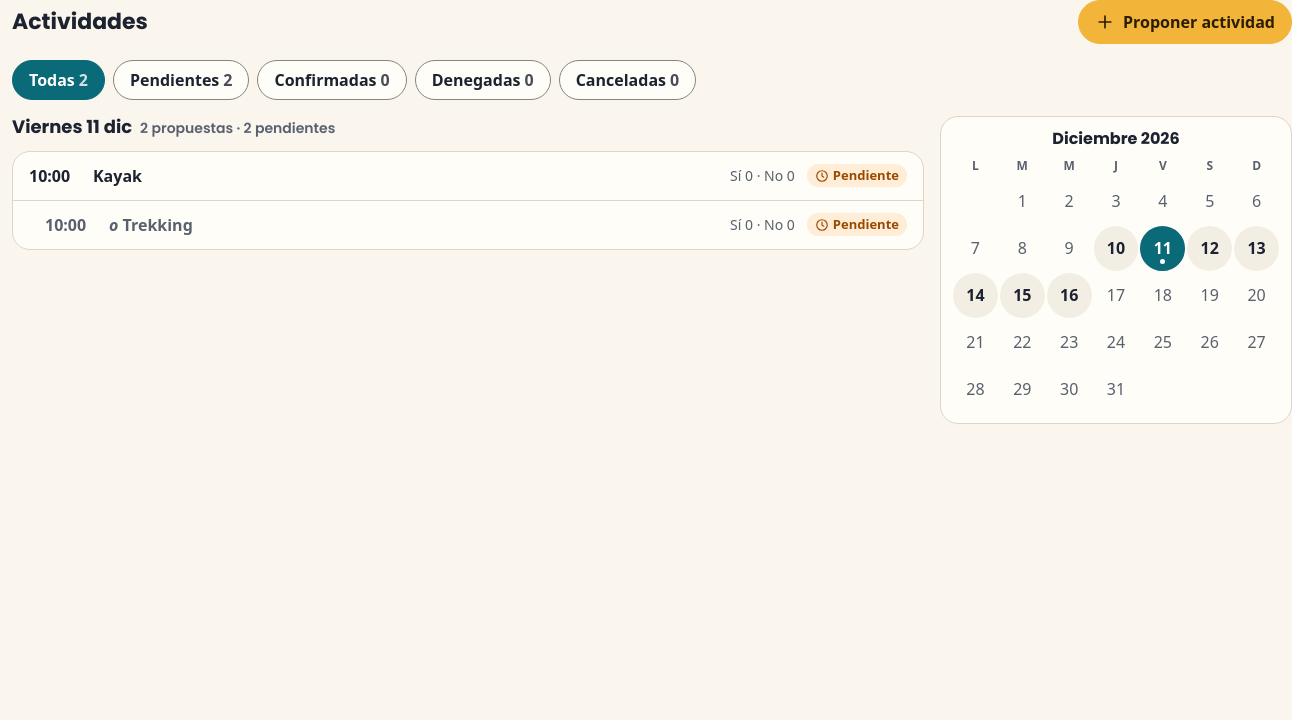
Test: ActividadesVista › si la propuesta ya cambió de estado al votar, avisa y muestra cómo quedó
Click the button with class "renglon__fila" that starts with "Trekking". click: (66, 224)
box: [13,200,923,248]
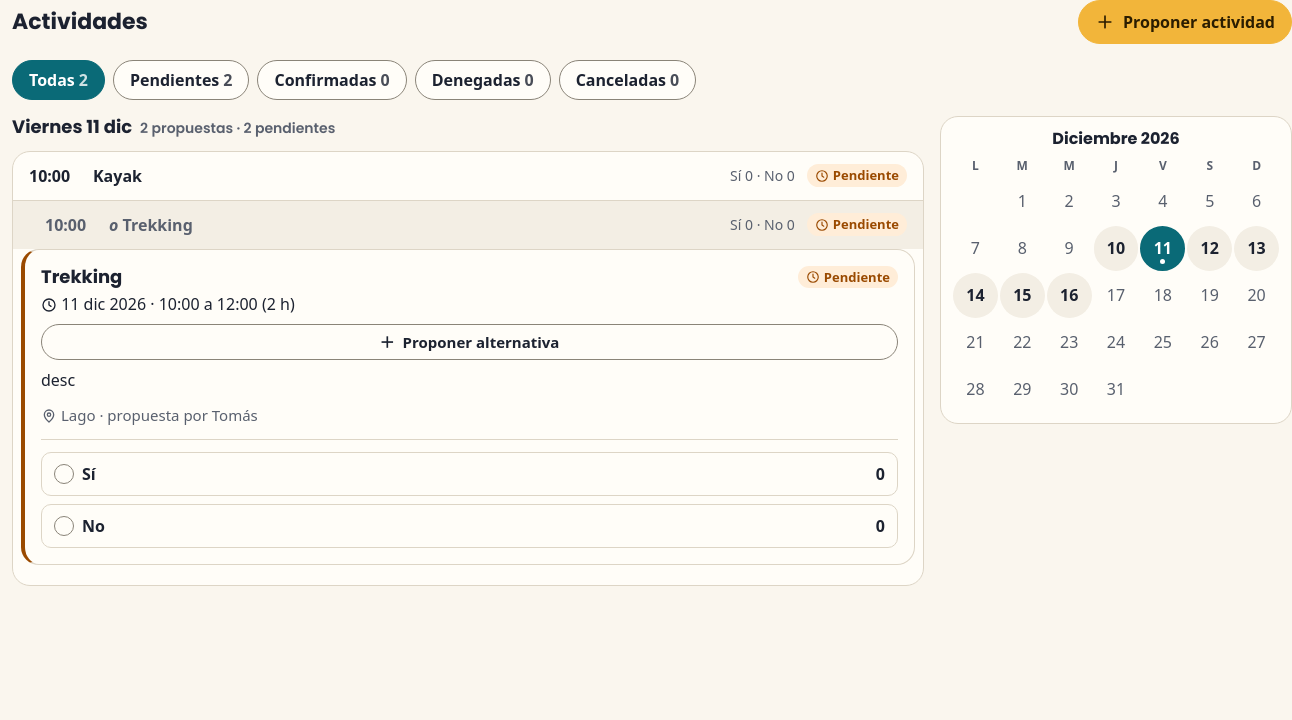
Click the button "Sí 0". click: (64, 474)
box: [41,452,898,496]
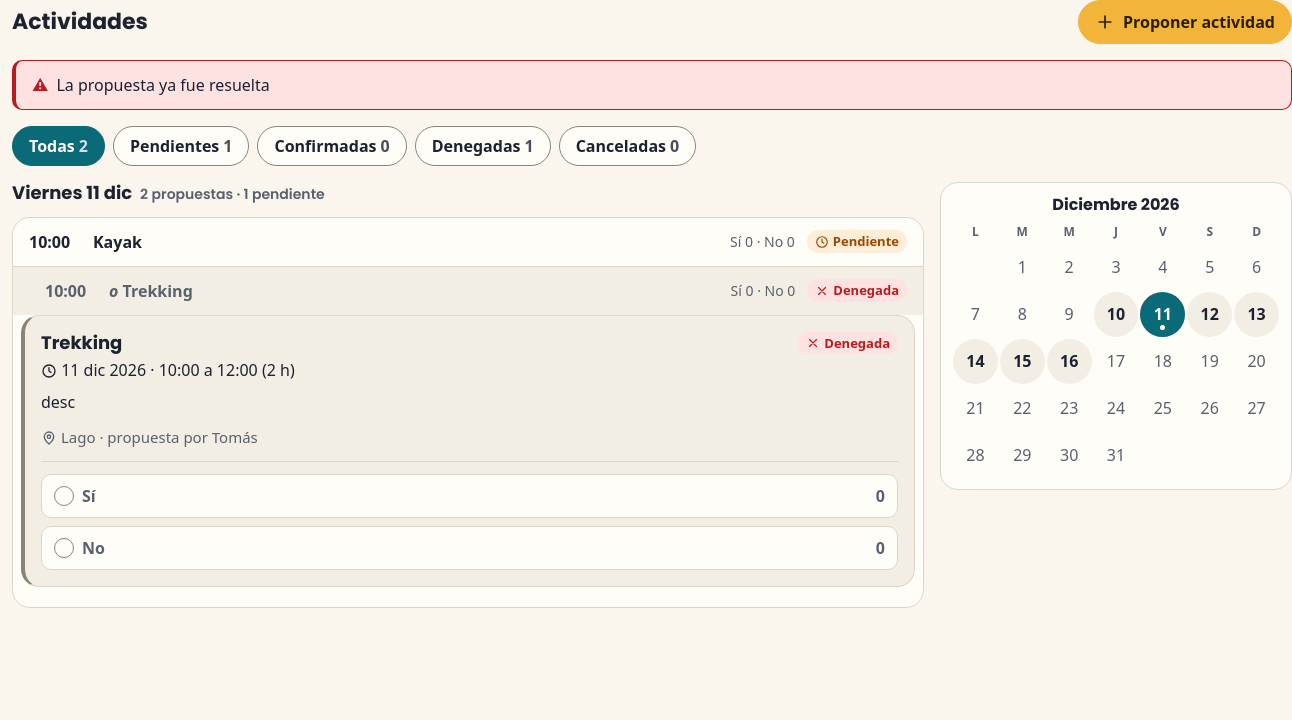
Expected: the message "⚠ La propuesta ya fue resuelta" is shown, [12,60,1291,110]
Expected: the element that starts with "Trekking" shows "Denegada", [824,334,890,352]
